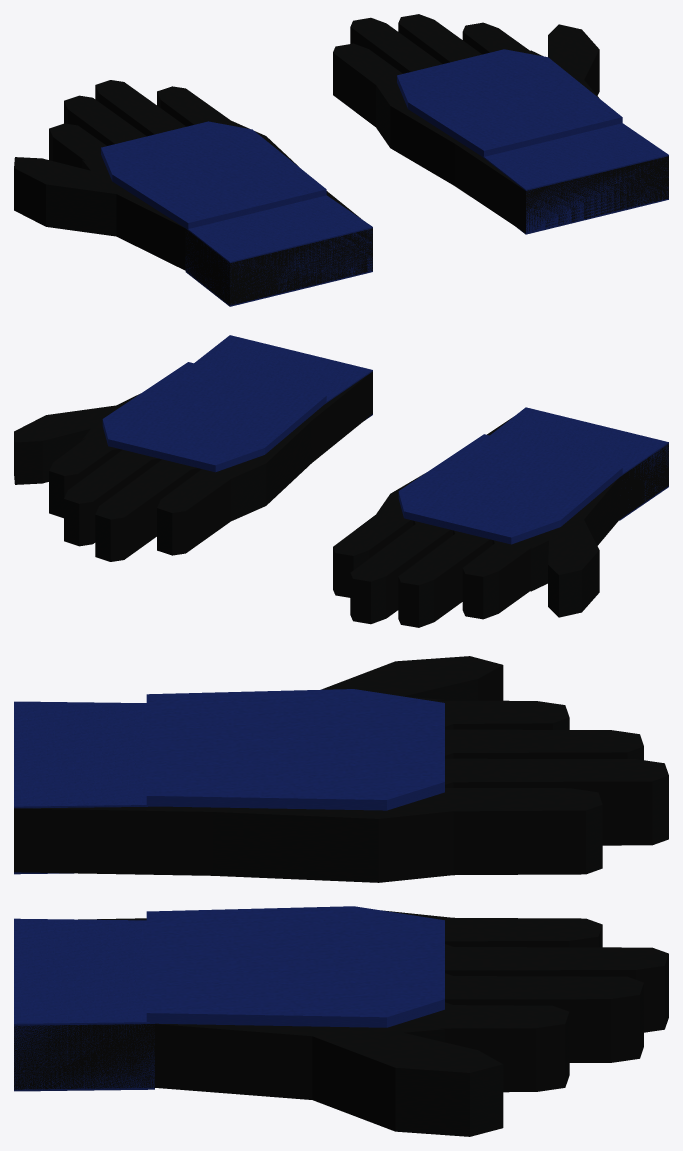
The model's file is NitrileGloves.gltf.
3 renders of one model, top to bottom at view 1: azimuth 30°, elevation 25°; view 2: azimuth 150°, elevation 25°; view 3: azimuth 270°, elevation 25°, orthographic. The views are drawn at different scales.
Parts seen in each view (by area): view 1: NitrileGloves__Body; view 2: NitrileGloves__Body; view 3: NitrileGloves__Body.
Boxes of the visible parts, left/top/right/bottom form: NitrileGloves__Body: left=14, top=14, right=668, bottom=306; NitrileGloves__Body: left=14, top=335, right=668, bottom=627; NitrileGloves__Body: left=14, top=656, right=668, bottom=1136.
Size of the model in its own units: 0.3332 by 0.0286 by 0.2212.
Materials: 1 (1 with a texture image).
